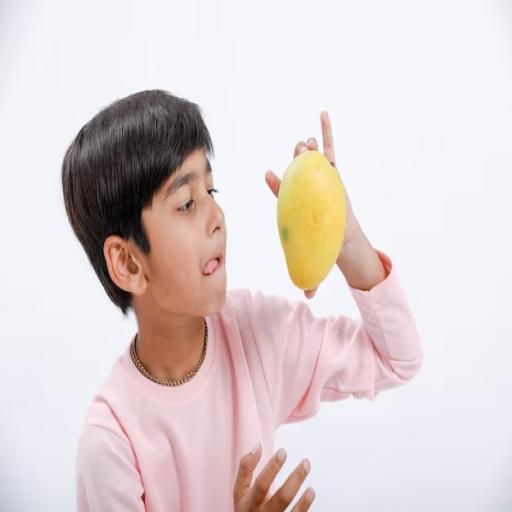mango: (277, 152, 345, 289)
